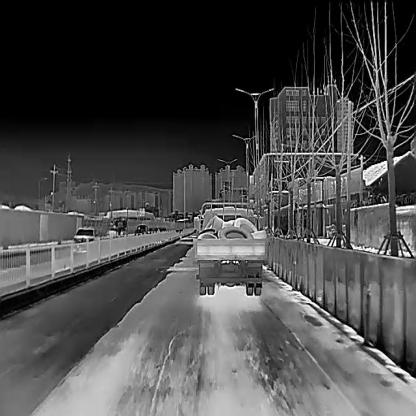car: (74, 227, 98, 252), (133, 224, 148, 236), (148, 227, 158, 234)
truck: (195, 200, 268, 296)
